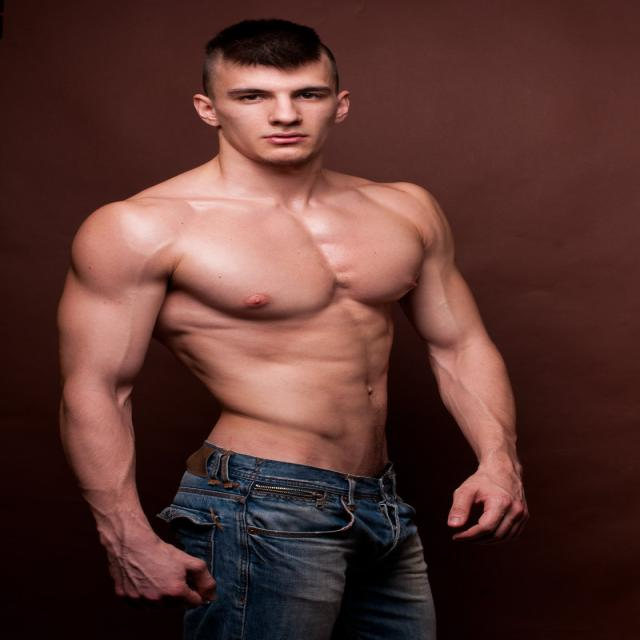mobile_phonerotation: (56, 17, 530, 638)
